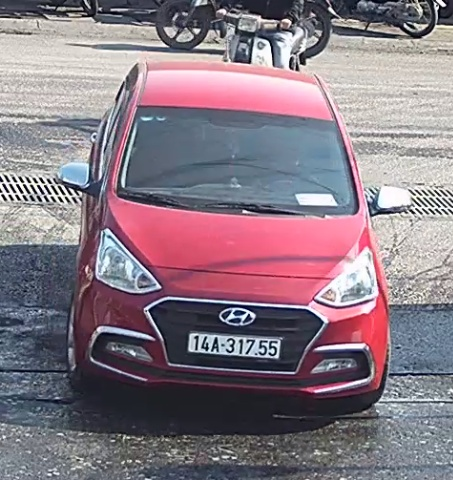vehicle plate: (186, 326, 283, 368)
